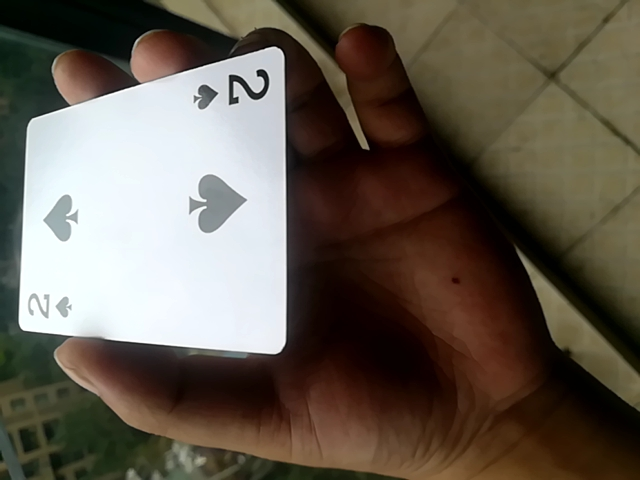ht 2: (11, 42, 287, 367)
